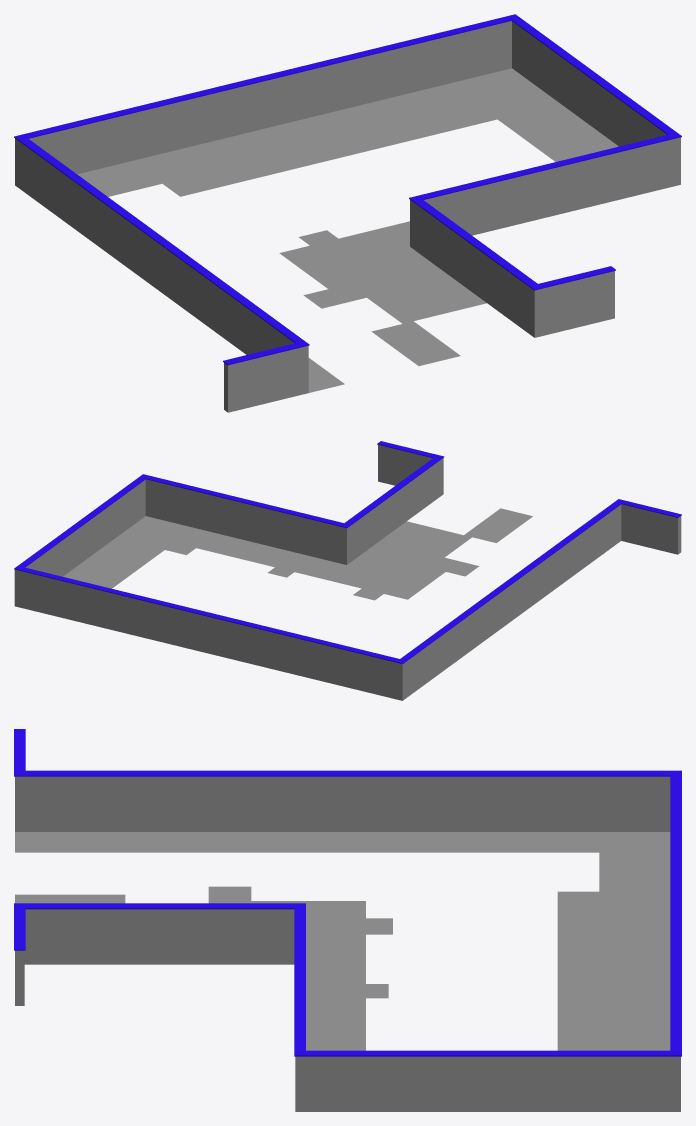
The model's file is Garden.FBX.
3 views of the same model, one above another, from view 1: azimuth 30°, elevation 25°; view 2: azimuth 150°, elevation 25°; view 3: azimuth 270°, elevation 25° (orthographic). The views are drawn at different scales.
Visible parts, largest first — view 1: Garden Wall, Garden_Sidewalk, Garden_Pebbles, Garden_Grass; view 2: Garden Wall, Garden_Sidewalk, Garden_Pebbles, Garden_Grass; view 3: Garden Wall, Garden_Grass, Garden_Sidewalk, Garden_Pebbles.
Boxes of the visible parts, x1,y1,x2,y2 form: Garden Wall: (14, 14, 681, 412); Garden_Sidewalk: (84, 76, 607, 317); Garden_Pebbles: (163, 103, 566, 365); Garden_Grass: (77, 68, 618, 392); Garden Wall: (14, 441, 681, 700); Garden_Sidewalk: (71, 522, 452, 587); Garden_Pebbles: (104, 508, 532, 600); Garden_Grass: (63, 516, 463, 590); Garden Wall: (14, 729, 681, 1111); Garden_Grass: (15, 832, 670, 1050); Garden_Sidewalk: (306, 852, 654, 1050); Garden_Pebbles: (15, 886, 599, 1050).
Bounding box in the file's own units: 31433 × 2550 × 27192.
